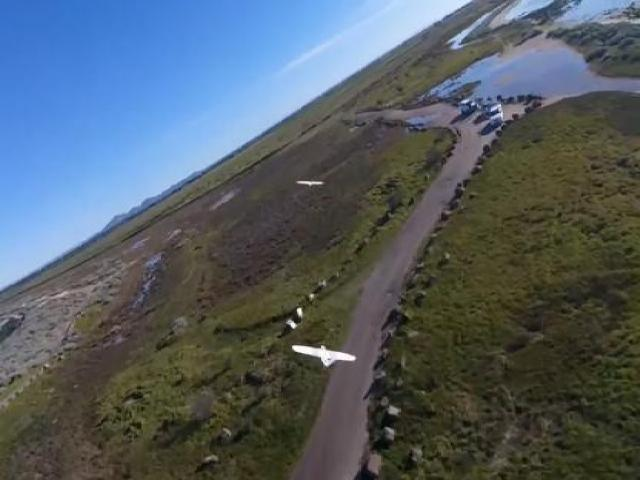uav: (287, 341, 358, 370), (292, 178, 328, 189)
